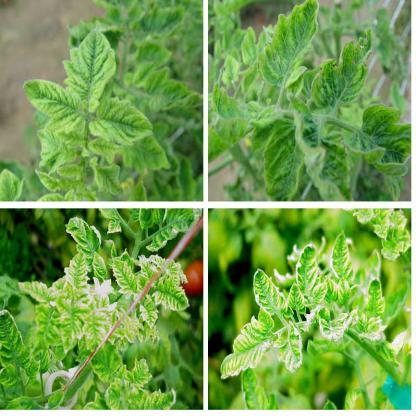Tomato mold leaf: (249, 2, 323, 96), (63, 25, 124, 111), (86, 93, 162, 146), (20, 70, 85, 131), (263, 116, 308, 201)
